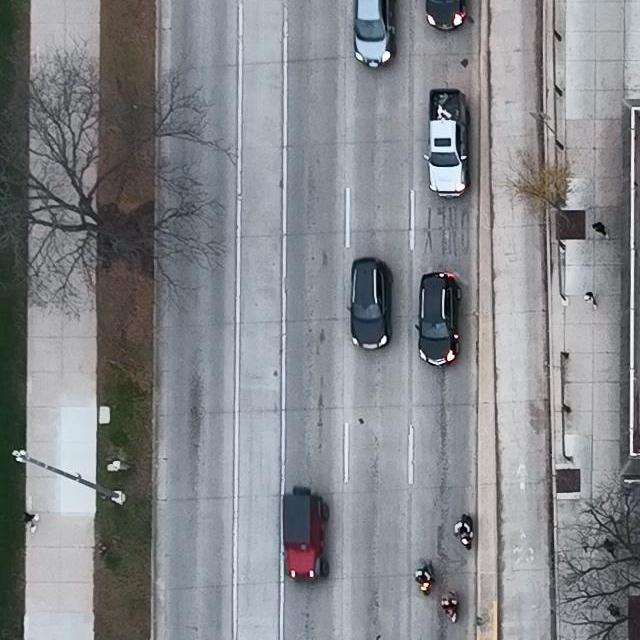car: (423, 88, 471, 200), (279, 486, 330, 581), (414, 272, 463, 368), (346, 258, 392, 351), (353, 0, 395, 69), (425, 0, 468, 30)
